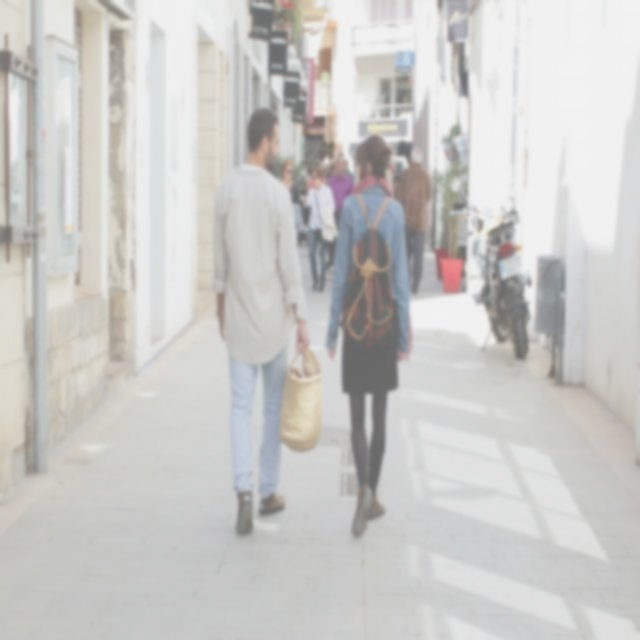pessoa: (209, 102, 326, 540), (322, 132, 413, 544), (396, 144, 434, 296), (301, 164, 338, 293), (328, 152, 354, 230), (278, 158, 302, 234), (298, 176, 312, 233), (306, 157, 326, 191), (326, 157, 338, 187), (391, 162, 402, 189), (344, 158, 352, 174)
